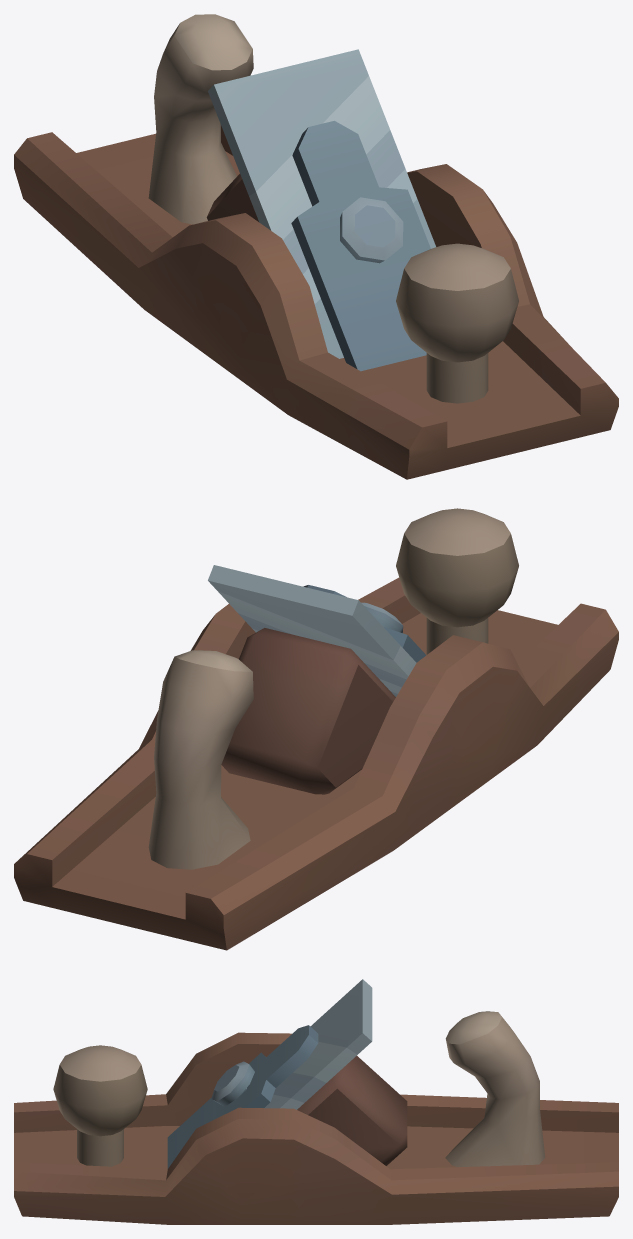
File: handplane.glb
3 renders of one model, top to bottom at view 1: azimuth 30°, elevation 25°; view 2: azimuth 150°, elevation 25°; view 3: azimuth 270°, elevation 25°, orthographic. The views are drawn at different scales.
Parts seen in each view (by area): view 1: handplane; view 2: handplane; view 3: handplane.
Part boxes in pixels (box(x1,y1,x2,y2)): handplane: box(14, 14, 618, 479); handplane: box(14, 508, 618, 950); handplane: box(14, 979, 618, 1224).
Size of the model in its own units: 0.3967 by 0.3417 by 1.06.
Materials: 1 (1 with a texture image).
